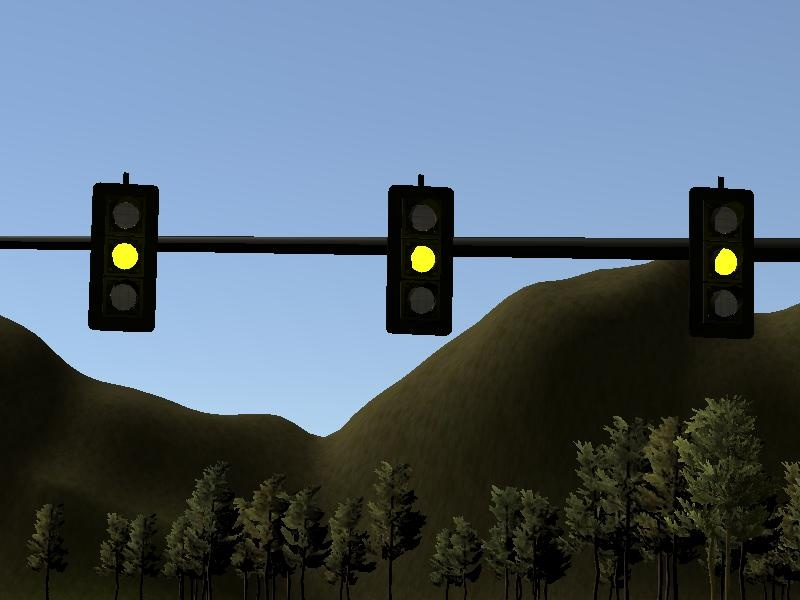yellow: (676, 168, 765, 346), (383, 167, 462, 345), (83, 172, 163, 336)
